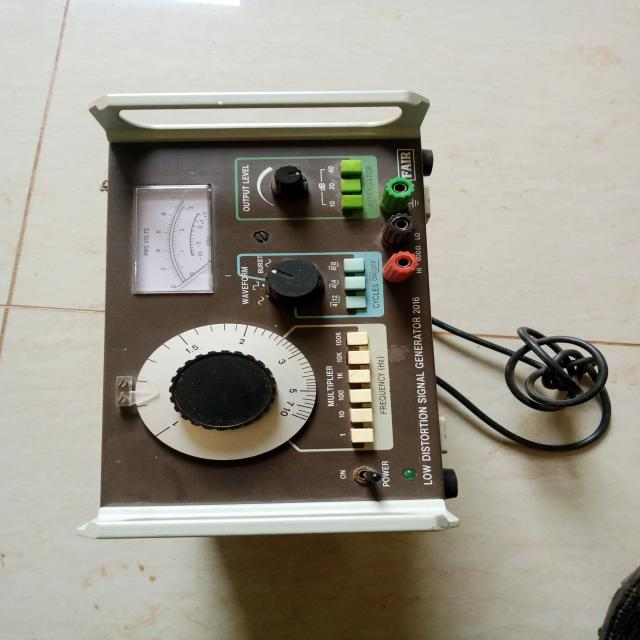Low Distortion Signal Generator: (58, 80, 486, 556)
